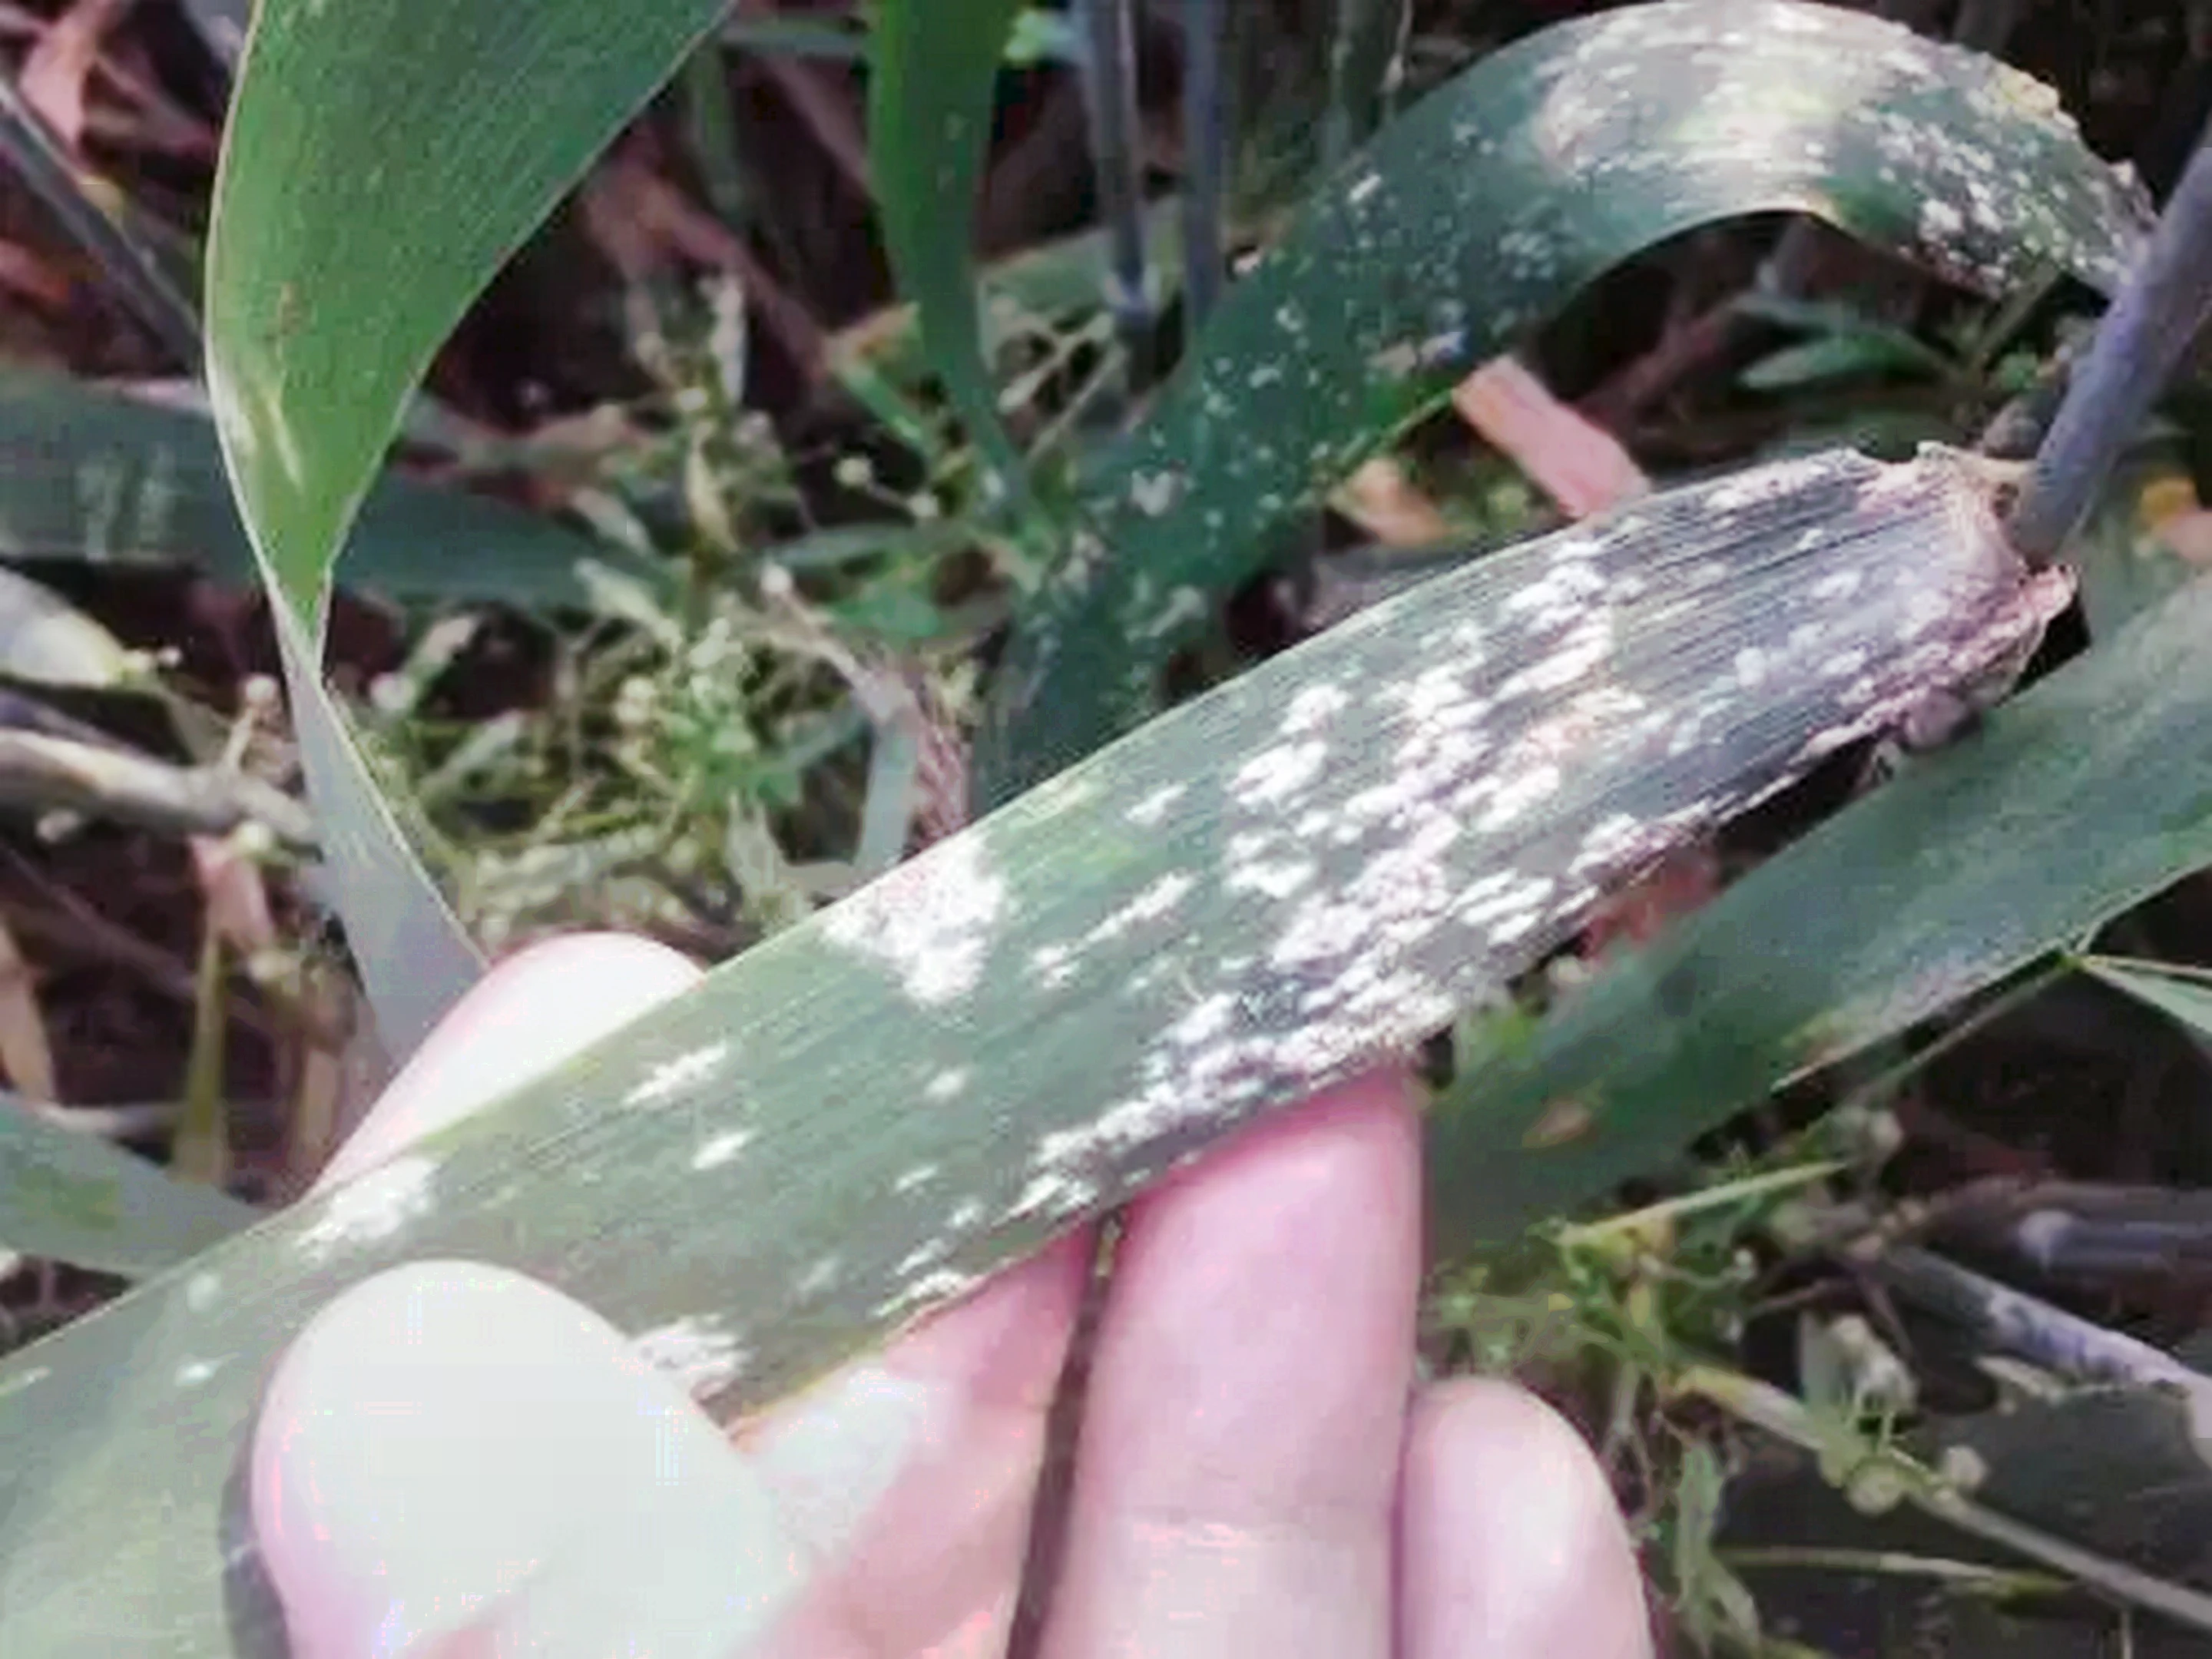Powdery Mildew: (719, 518, 1737, 1317)
